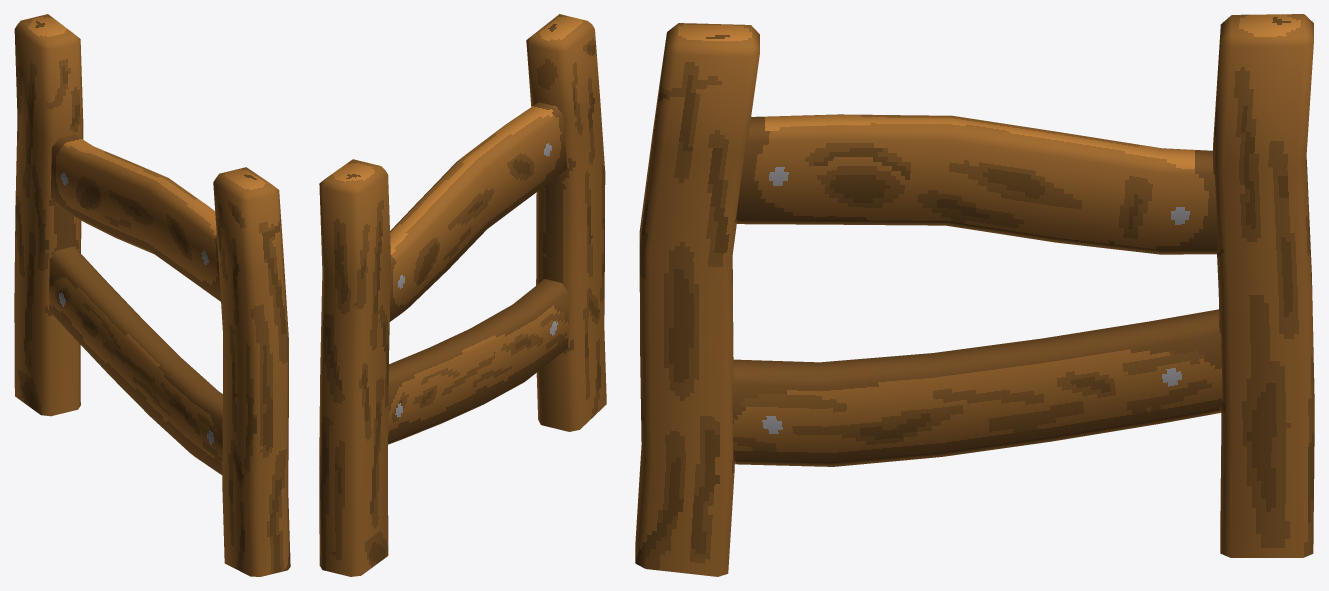
Rendered from fence2.glb.
3 renders of one model, left to right at view 1: azimuth 30°, elevation 25°; view 2: azimuth 150°, elevation 25°; view 3: azimuth 270°, elevation 25°, orthographic. The views are drawn at different scales.
Parts seen in each view (by area): view 1: fence2; view 2: fence2; view 3: fence2.
Part boxes in pixels (x1,y1,x2,y2): fence2: (14,14,290,576); fence2: (319,14,606,576); fence2: (635,14,1314,576).
Bounding box in the file's own units: 0.2348 × 2.18 × 2.48.
Materials: 1 (1 with a texture image).
